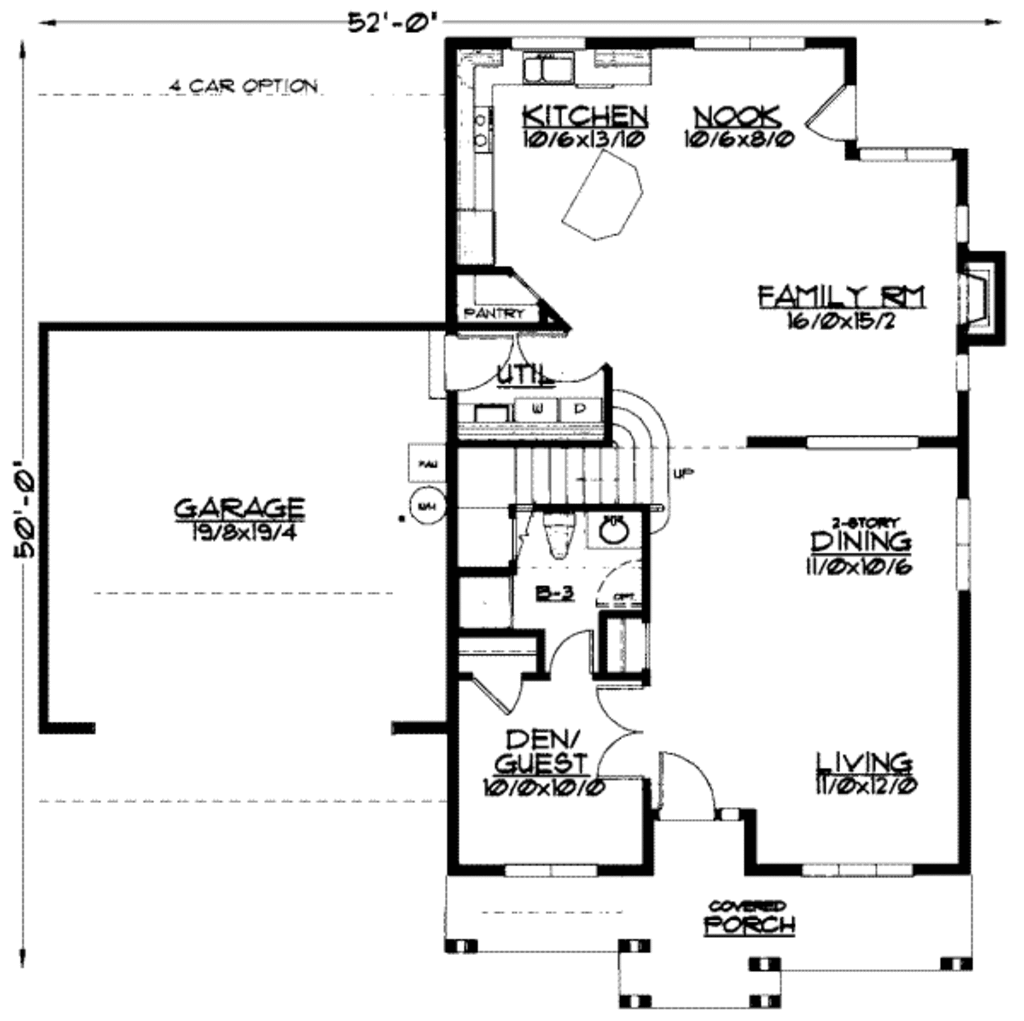door: (636, 740, 726, 825), (588, 683, 656, 780), (432, 326, 517, 394), (801, 71, 874, 145), (458, 656, 537, 718), (548, 626, 601, 690)
kitchen_bar: (547, 126, 658, 258)
large_sink: (534, 510, 588, 567)
small_sink: (593, 507, 636, 545)
stairs: (520, 375, 691, 512)
twin_sink: (517, 45, 582, 88)
window: (942, 491, 990, 598), (687, 31, 806, 72), (845, 131, 963, 171), (801, 426, 923, 455), (804, 858, 926, 885), (507, 859, 604, 877)
